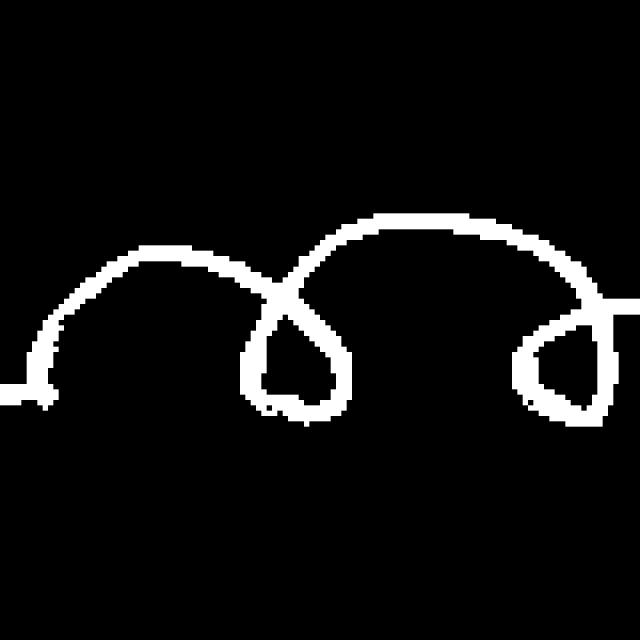inductor: (9, 201, 632, 458)
